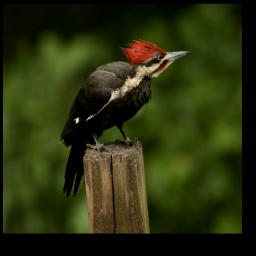Woodpecker: (49, 33, 193, 201)
